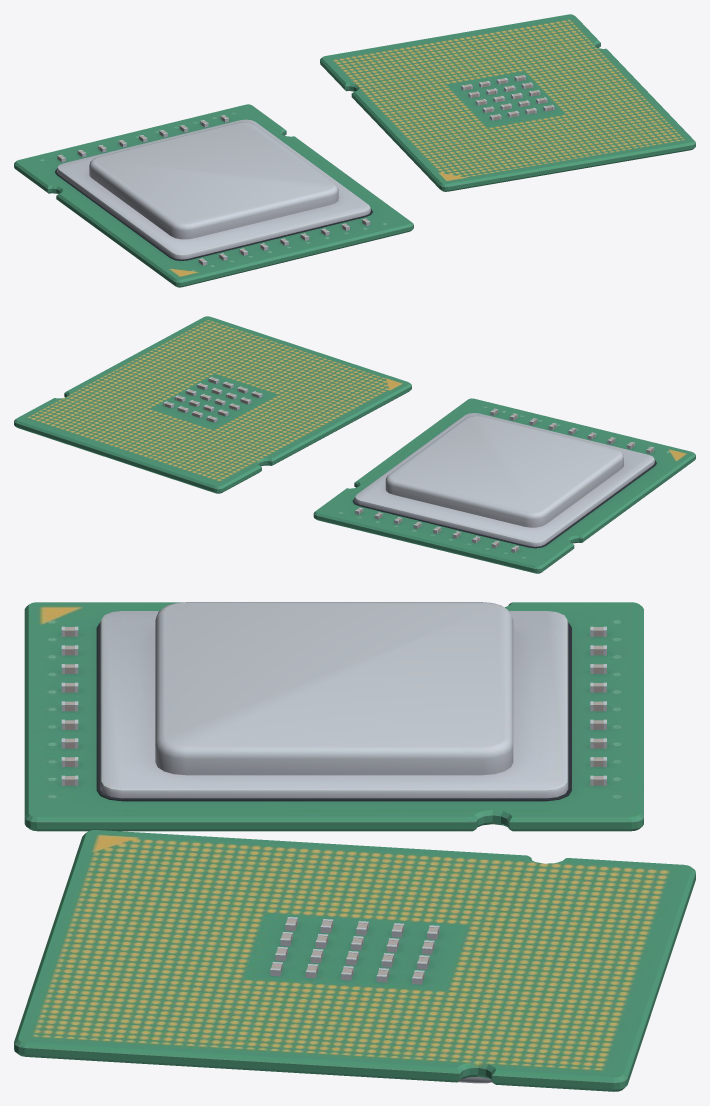
Rendered from cpu.glb.
The picture shows the model from 3 angles, top to bottom: view 1: azimuth 30°, elevation 25°; view 2: azimuth 150°, elevation 25°; view 3: azimuth 270°, elevation 25°; orthographic projection. The views are drawn at different scales.
Parts seen in each view (by area): view 1: cpu_body; view 2: cpu_body; view 3: cpu_body.
Boxes of the visible parts, left/top/right/bottom form: cpu_body: left=14, top=14, right=695, bottom=287; cpu_body: left=14, top=316, right=695, bottom=573; cpu_body: left=14, top=602, right=695, bottom=1091.
Size of the model in its own units: 0.0873 by 0.00444 by 0.0495.
1 material, 1 textured.
